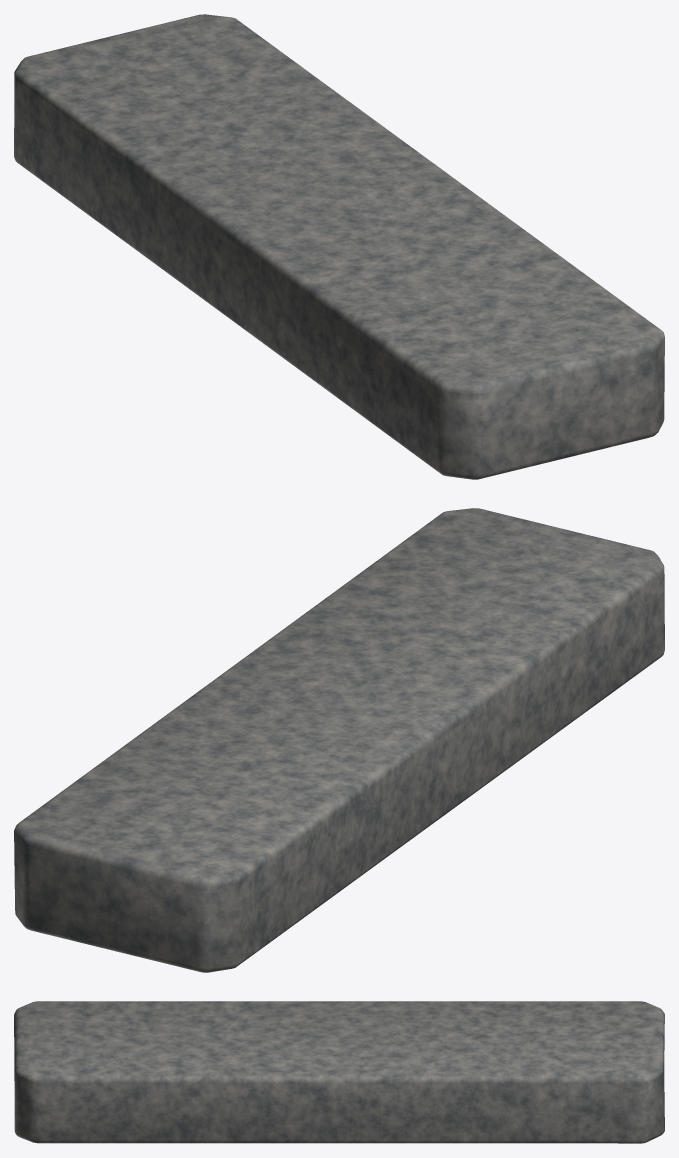
File: sinking_basalt_long.obj
The picture shows the model from 3 angles, top to bottom: view 1: azimuth 30°, elevation 25°; view 2: azimuth 150°, elevation 25°; view 3: azimuth 270°, elevation 25°; orthographic projection. The views are drawn at different scales.
Parts seen in each view (by area): view 1: sinking_basalt_long; view 2: sinking_basalt_long; view 3: sinking_basalt_long.
Boxes of the visible parts, x1,y1,x2,y2 form: sinking_basalt_long: (14,14,664,479); sinking_basalt_long: (14,508,664,972); sinking_basalt_long: (14,1001,664,1143).
Size of the model in its own units: 4.01 by 1.6 by 14.04.
1 material, 1 textured.
